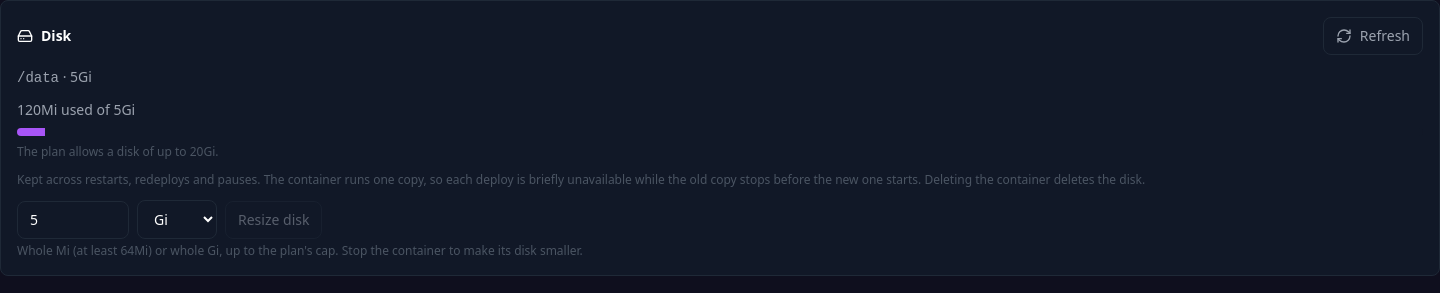
AppDiskCard › refresh measures the disk again
The image size is (1440, 293).
Expected: the text "120Mi used of 5Gi" is shown, [17,100,135,119]
Click the button with test id "disk-refresh".
click(1373, 36)  # box [1323,17,1423,55]
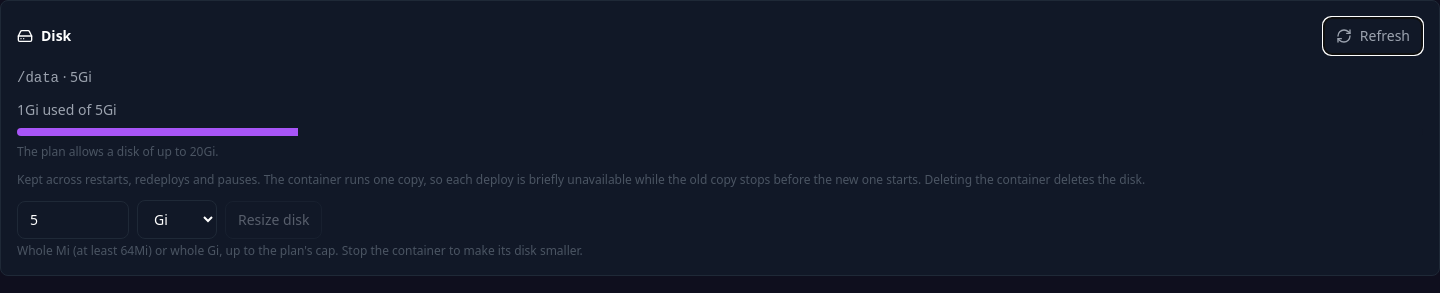
Result: the text with test id "disk-usage" shows "1Gi used" at [17,100,117,119]
